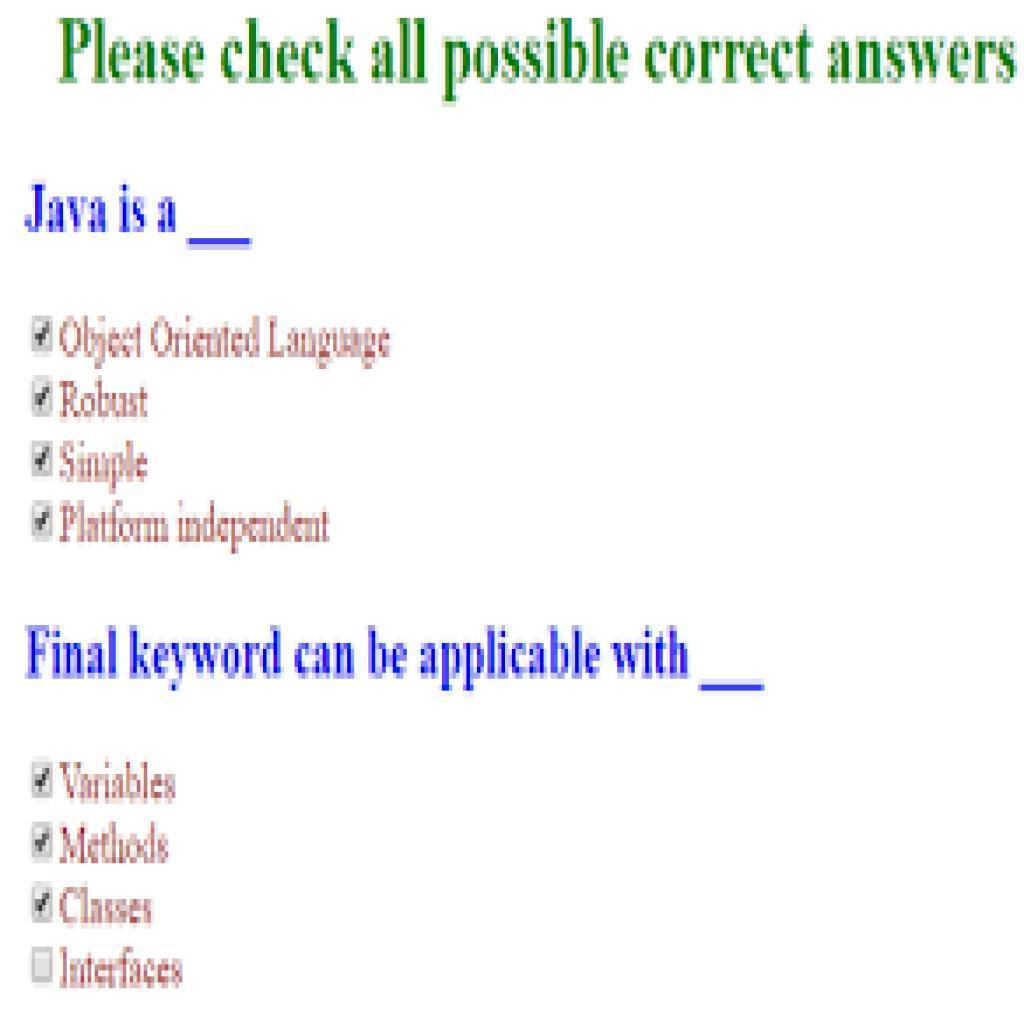checkbox: (32, 315, 56, 354), (32, 379, 57, 416), (33, 883, 56, 923), (34, 823, 56, 864), (33, 503, 55, 542), (31, 946, 53, 984), (32, 762, 54, 798), (33, 439, 52, 478)
